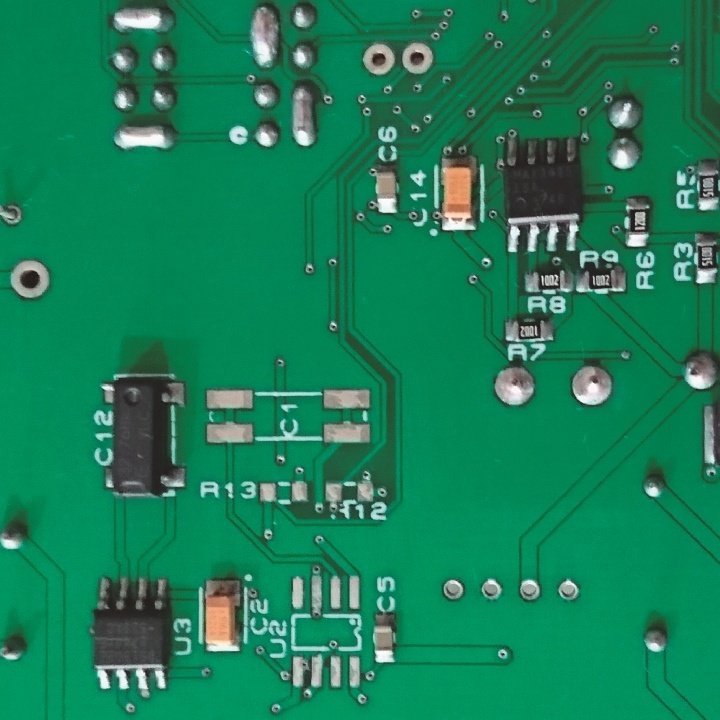F: (569, 362, 614, 414), (493, 360, 539, 410), (8, 256, 53, 300), (396, 38, 435, 78), (360, 41, 395, 78), (479, 575, 506, 606), (555, 577, 582, 606), (1, 201, 28, 229), (441, 575, 467, 604), (518, 577, 540, 605)
P: (247, 1, 286, 73), (107, 2, 179, 39), (111, 116, 180, 154), (286, 78, 320, 151)
